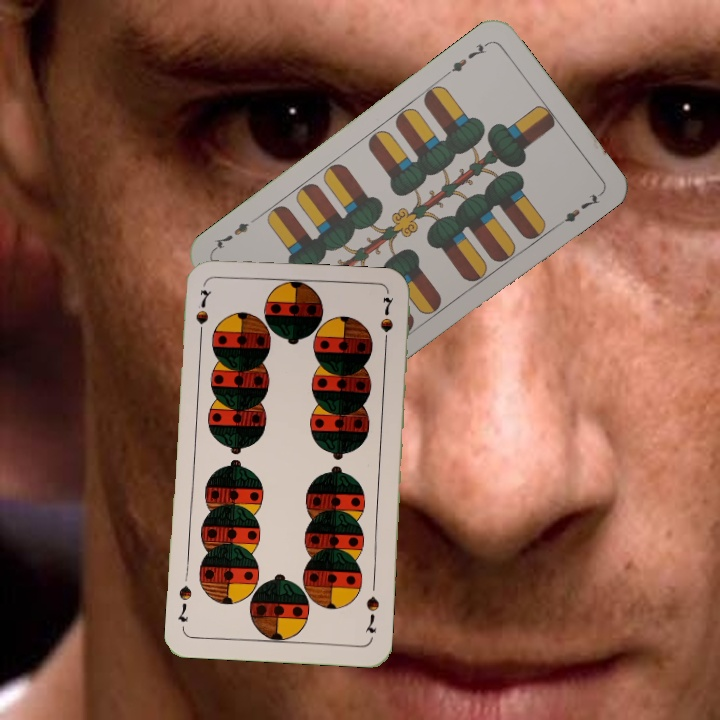E7: (441, 38, 492, 79)
S7: (191, 286, 214, 342), (361, 592, 382, 635)
